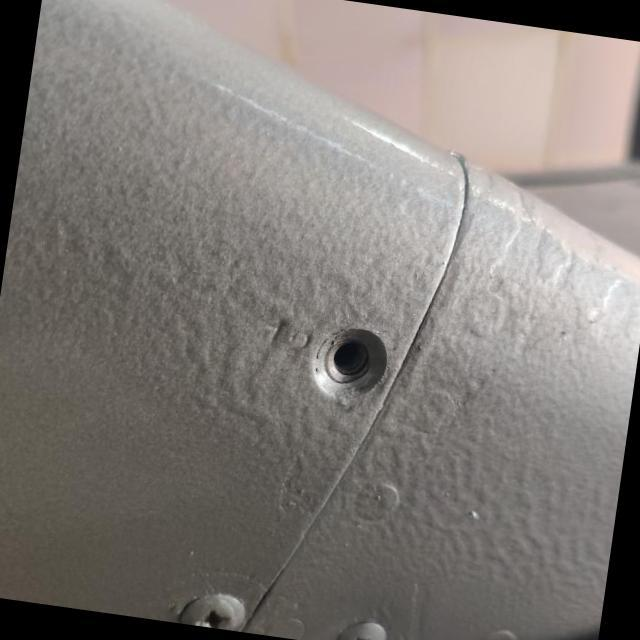Fastener Damage: (267, 271, 432, 454)
